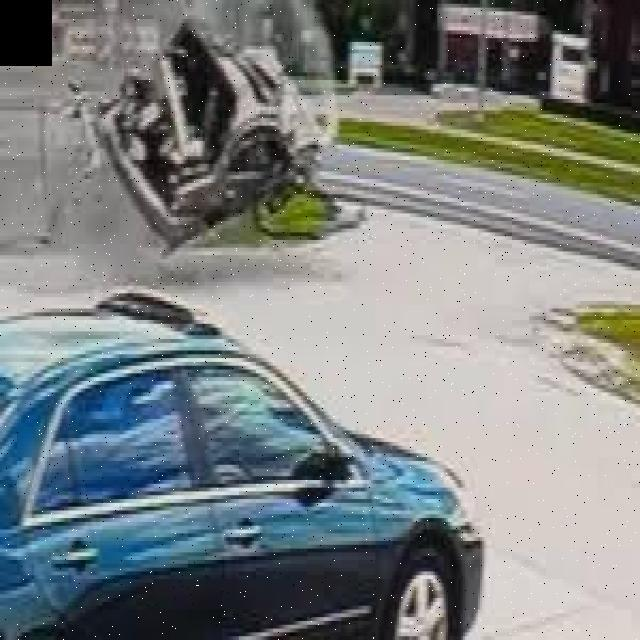severe: (88, 12, 334, 252)
